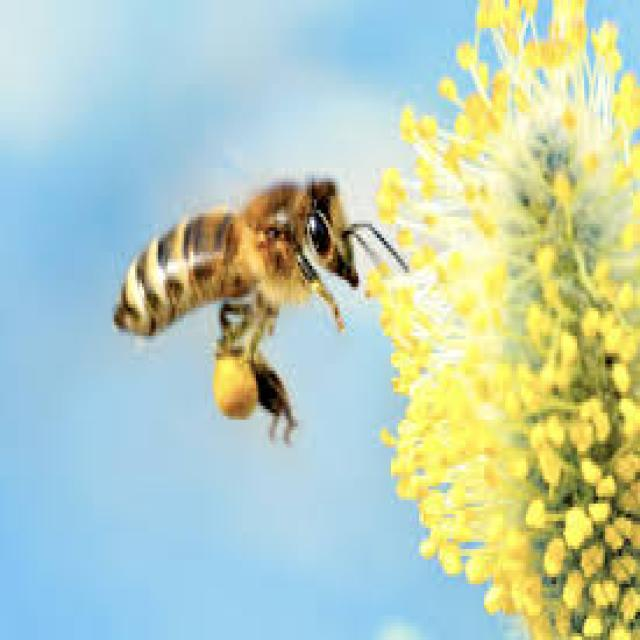Bees: (111, 177, 411, 444)
